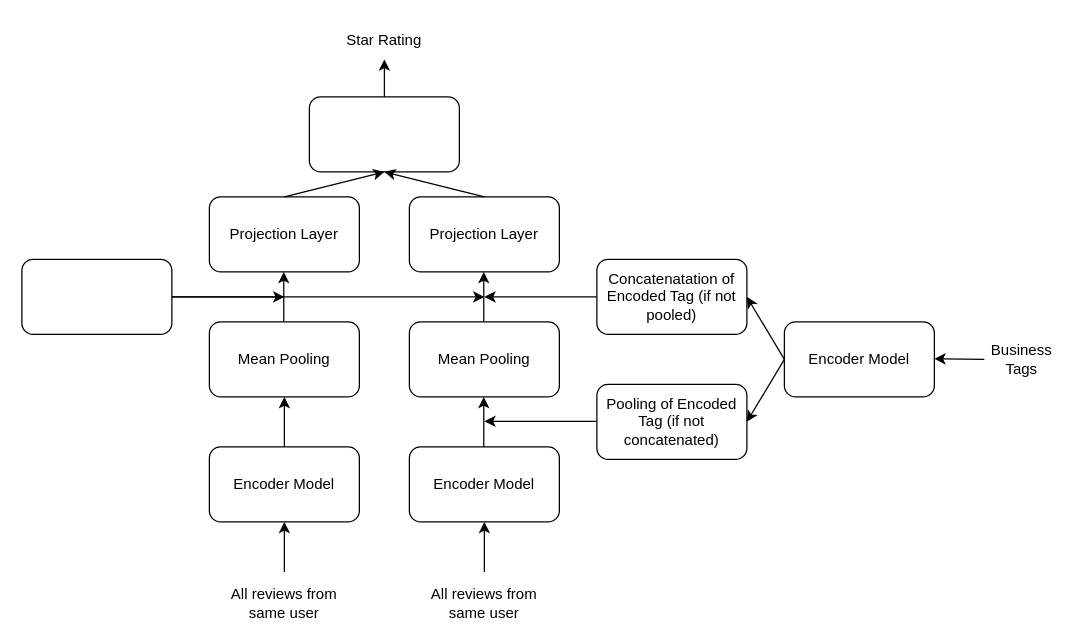
This 1081x643 diagram has some shape labels left out. Each missing label, with the centre of its shape:
Concatenation of trainable Entity Embeddings (if used): the point at 96,296
Prediction Head: the point at 383,134
